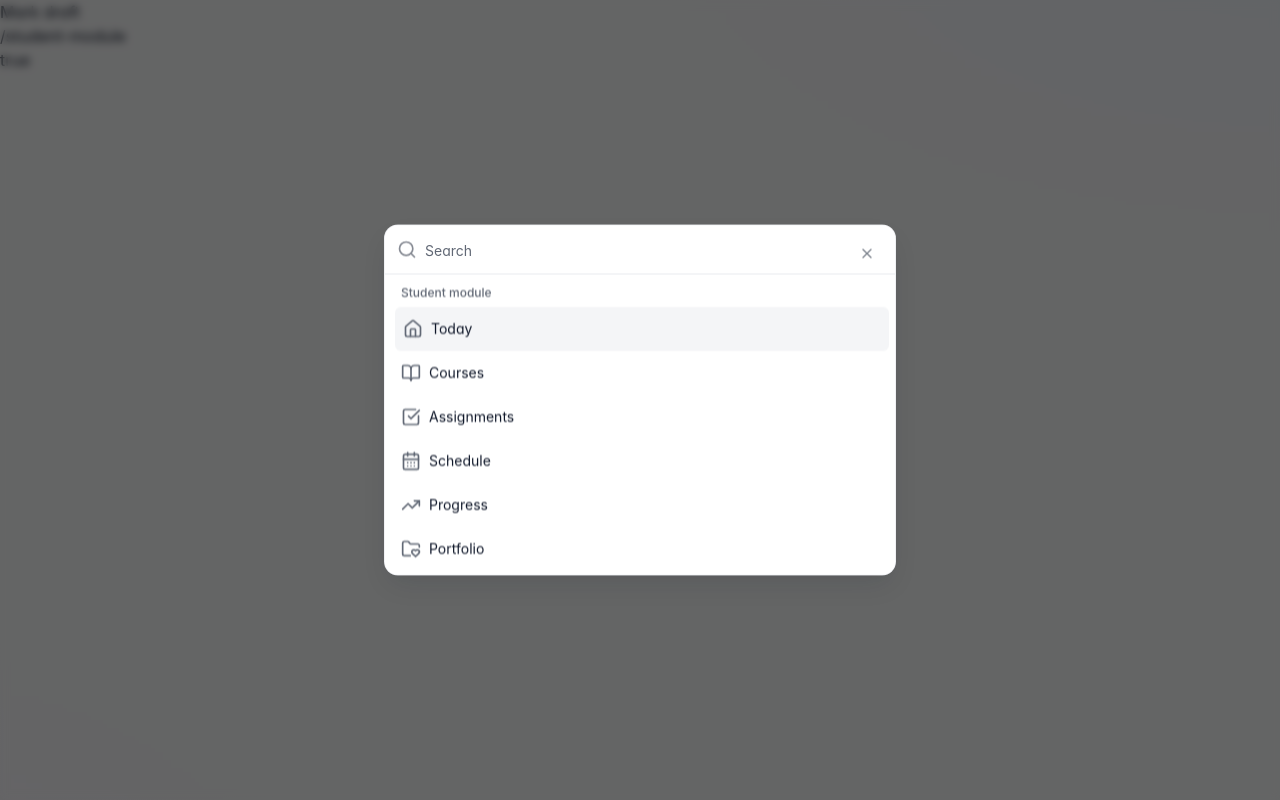
Scenario: searches only assigned role sections and own courses and opens a concrete learner link
Type "Visual" into the dropdown at {"x": 654, "y": 250}, box [425,226,883,274]
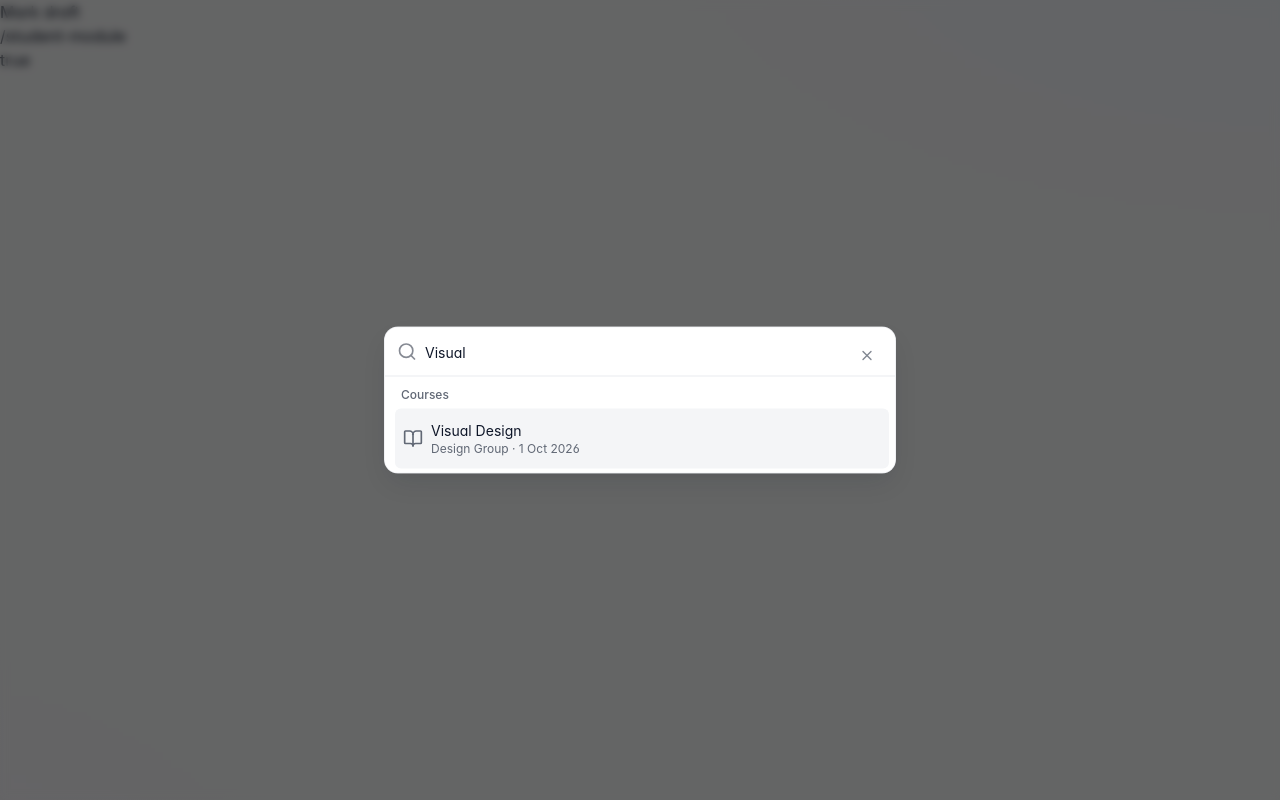
Click the option "Visual Design Design Group · 1 Oct 2026" at {"x": 476, "y": 430}, box [395,408,889,468]
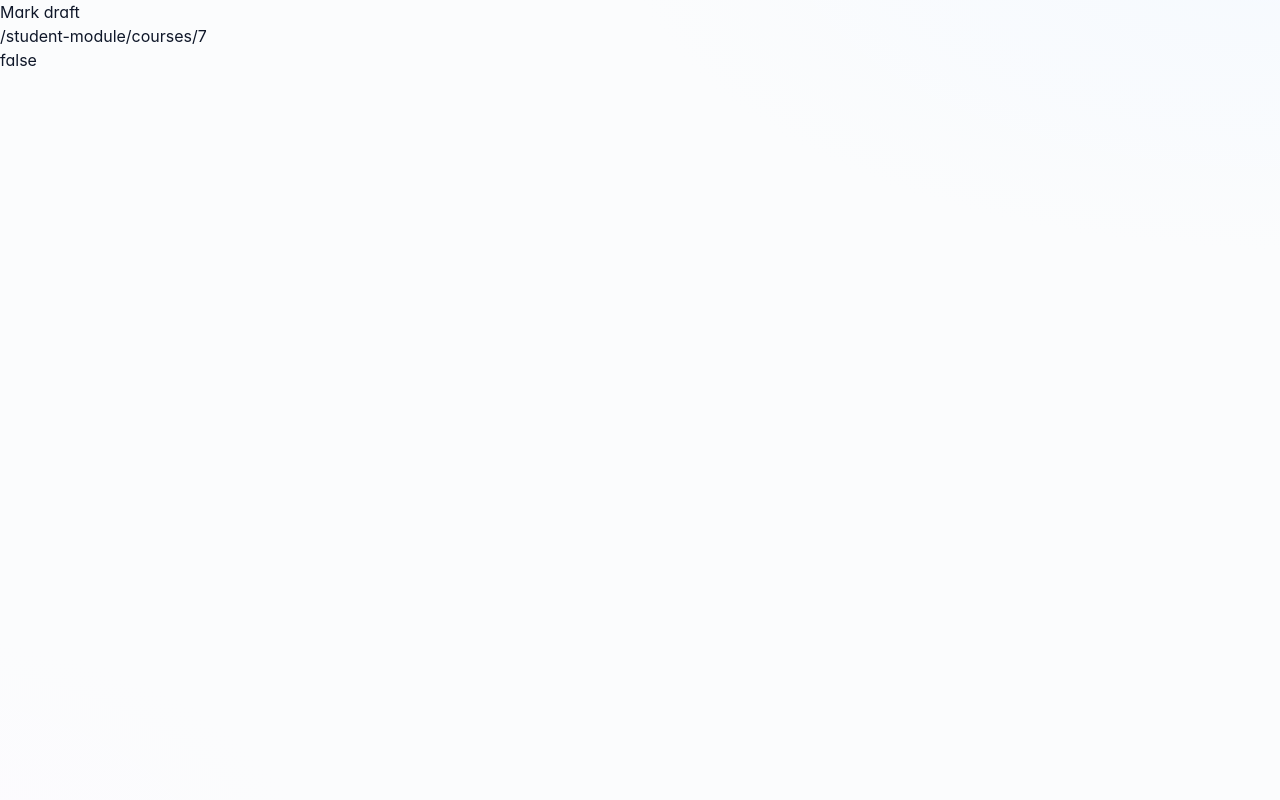
Expected: the text with test id "path" reads "/student-module/courses/7", [0,26,207,46]
